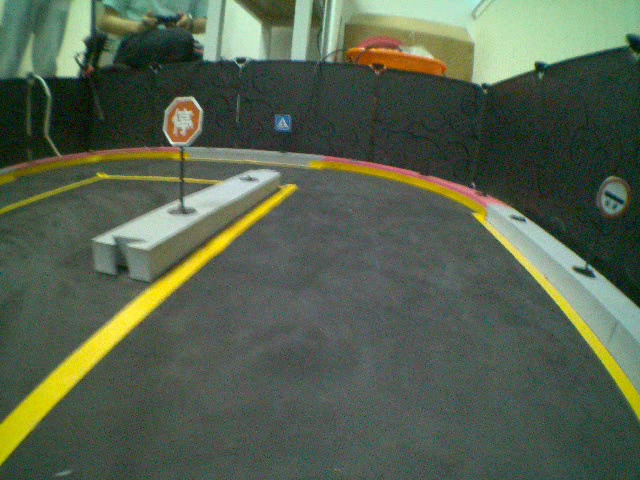Check: (583, 170, 635, 229)
Stop: (163, 92, 204, 148)
crossing: (271, 110, 295, 132)
